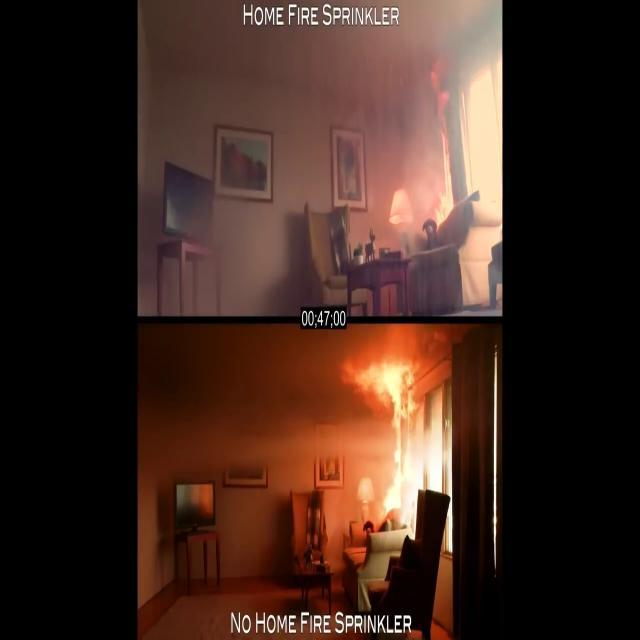Fire: (343, 348, 451, 528), (432, 125, 456, 230)
